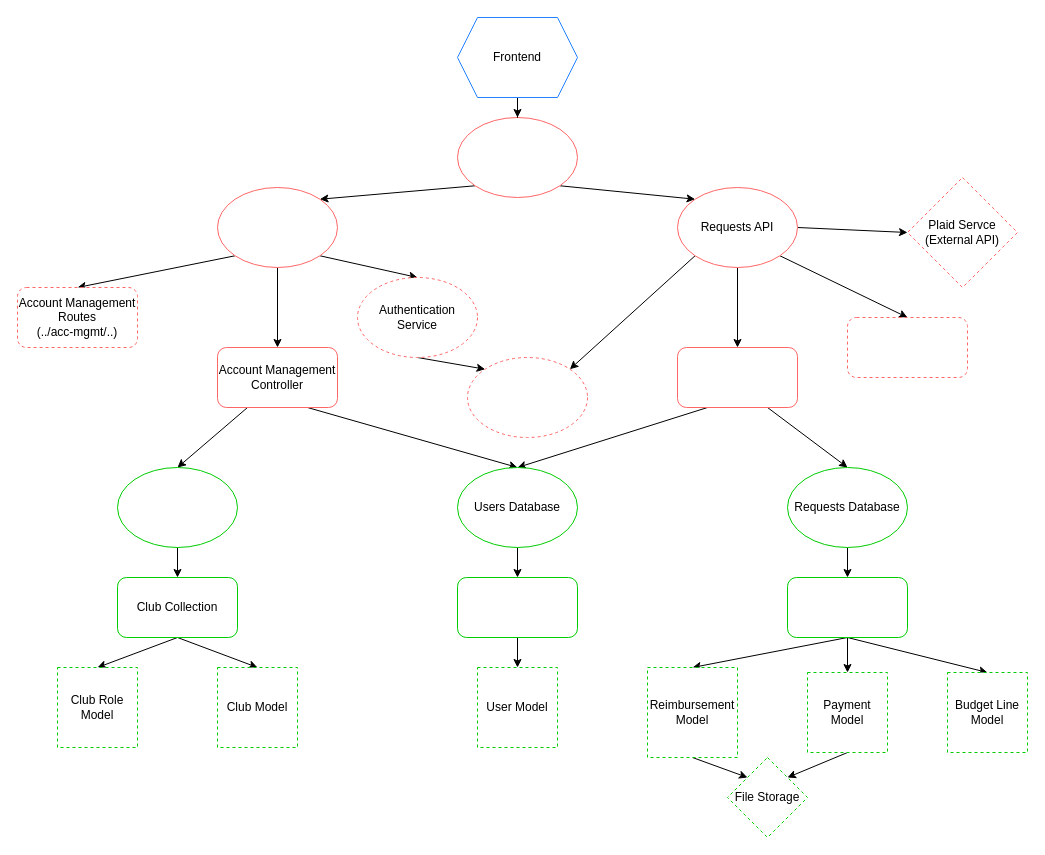
Some shapes in this 1045 by 855 pixel diagram are drawn without their labels. Here are the shapes that lost their labels. From the top down, the centre of each, then its label:
At point (517, 157): "User Dashboard API".
At point (277, 227): "Account Management API".
At point (907, 347): "Request Routes (../acc-mgmt/..)".
At point (527, 397): "Emailer Service".
At point (737, 377): "Request Controller".
At point (177, 507): "Clubs Database".
At point (517, 607): "Users Collection".
At point (847, 607): "Requests Collection".
